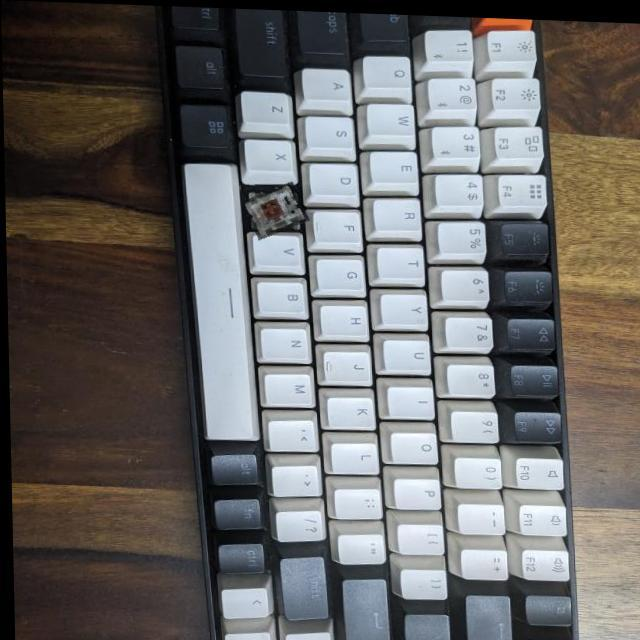key-switch: (242, 183, 305, 236)
